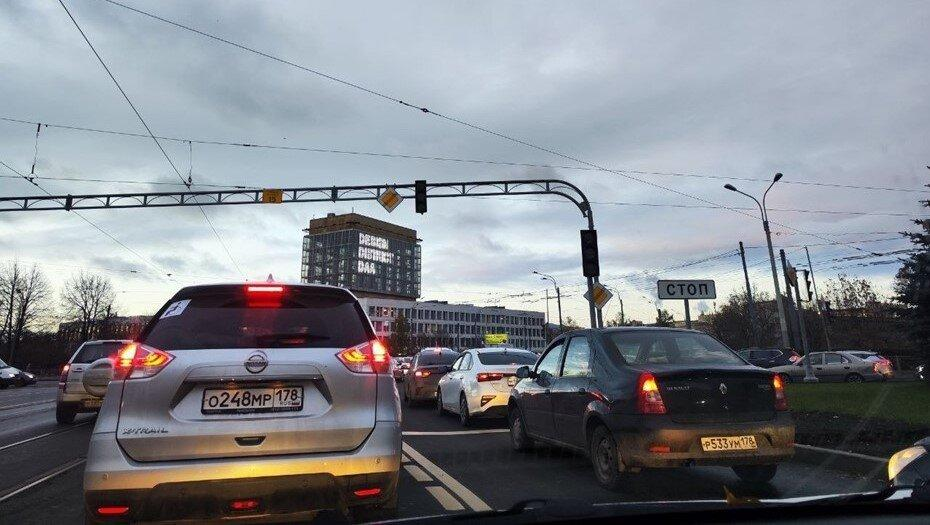off traffic light: (580, 229, 599, 278), (415, 180, 427, 213)
road_sign: (658, 280, 716, 299), (583, 284, 613, 310), (377, 188, 403, 214)
